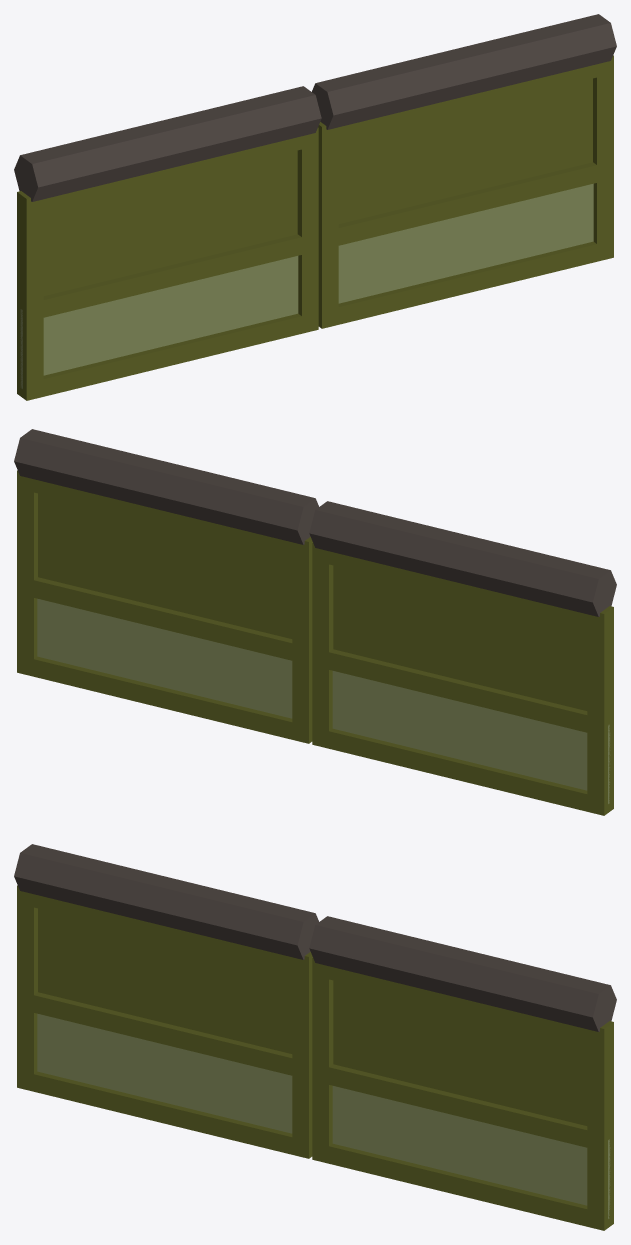
File: SM_PuertaValla_v3_LOD1.fbx
The picture shows the model from 3 angles, top to bottom: view 1: azimuth 30°, elevation 25°; view 2: azimuth 150°, elevation 25°; view 3: azimuth 330°, elevation 25°; orthographic projection.
Visible parts, largest first — view 1: Hoja_O, Hoja_E; view 2: Hoja_O, Hoja_E; view 3: Hoja_E, Hoja_O.
Boxes of the visible parts, x1=… form: Hoja_O: x1=14, y1=86, x2=321, y2=400; Hoja_E: x1=312, y1=14, x2=616, y2=328; Hoja_O: x1=309, y1=501, x2=616, y2=815; Hoja_E: x1=14, y1=429, x2=318, y2=743; Hoja_E: x1=309, y1=916, x2=616, y2=1230; Hoja_O: x1=14, y1=844, x2=318, y2=1158.
Size of what is drawn, in the model's own units: 7 by 2.7 by 0.5.
